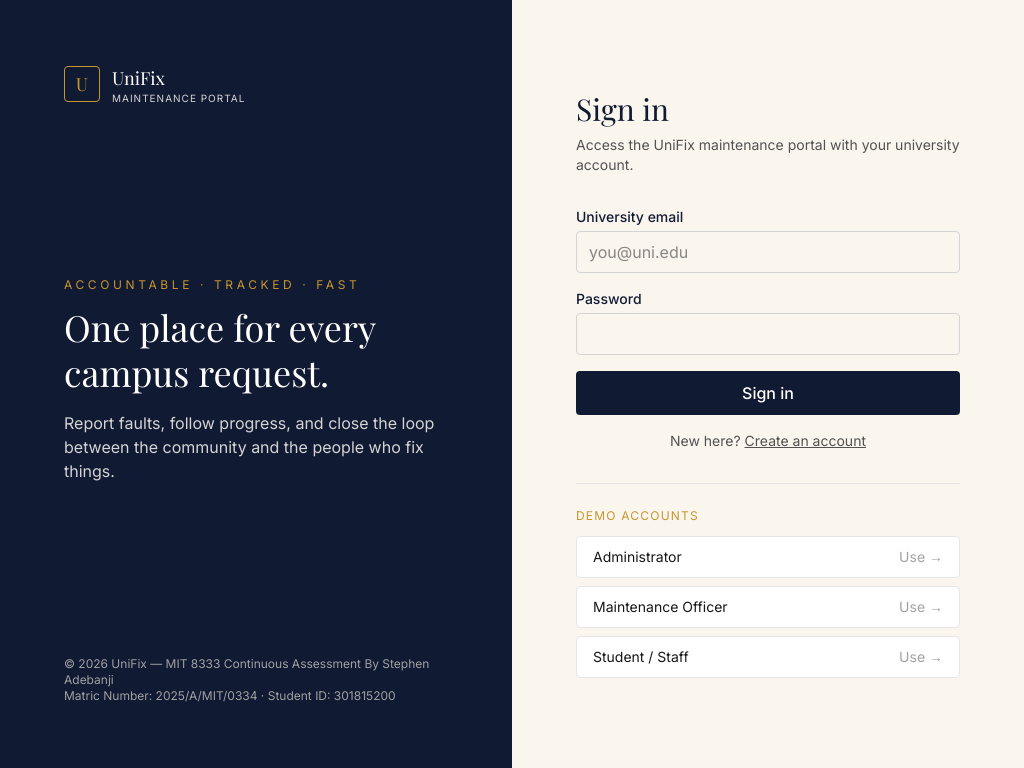
SignInPage › shows an error message when login fails
Type "wrong@uni.edu" into the field with placeholder "you@uni.edu". click: [768, 252]
box: [576,230,960,272]
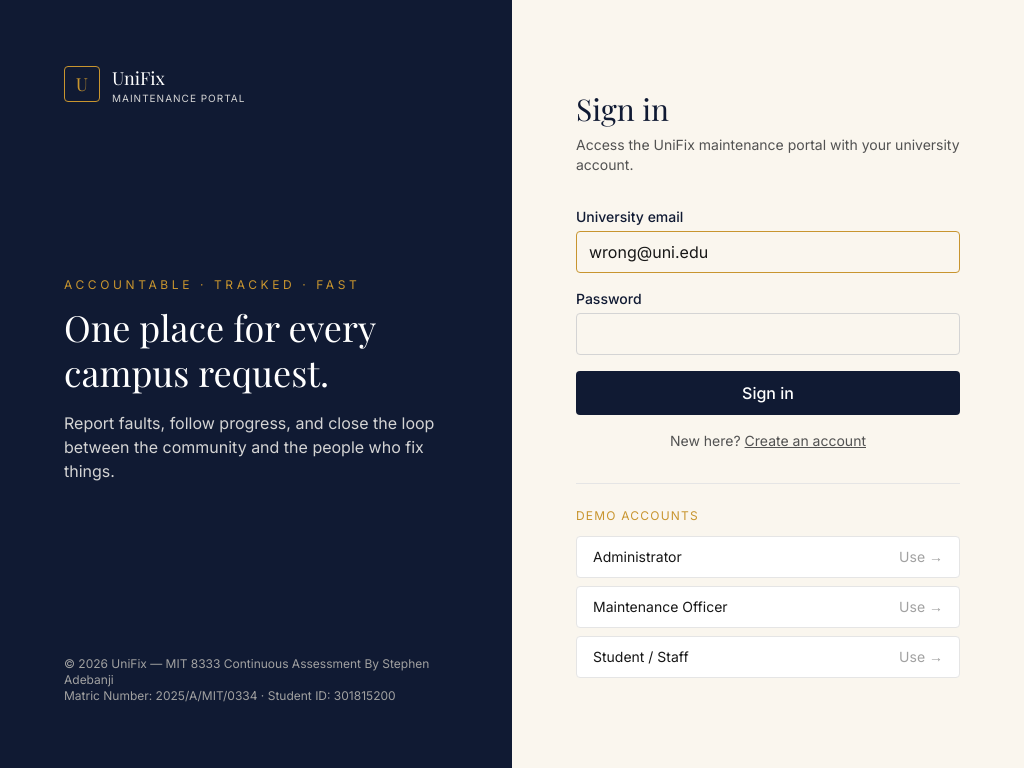
Type "wrong-password" into the password field labelled "Password". click: [768, 334]
box: [576,312,960,354]
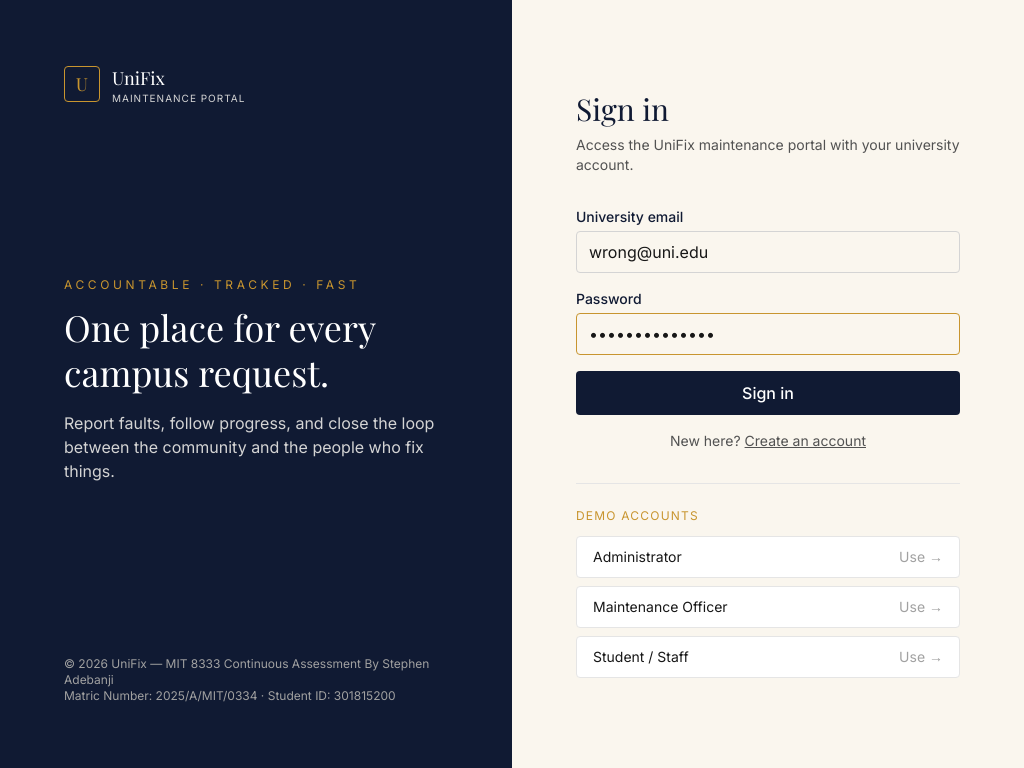
Click the button "Sign in". click: [768, 392]
box: [576,370,960,414]
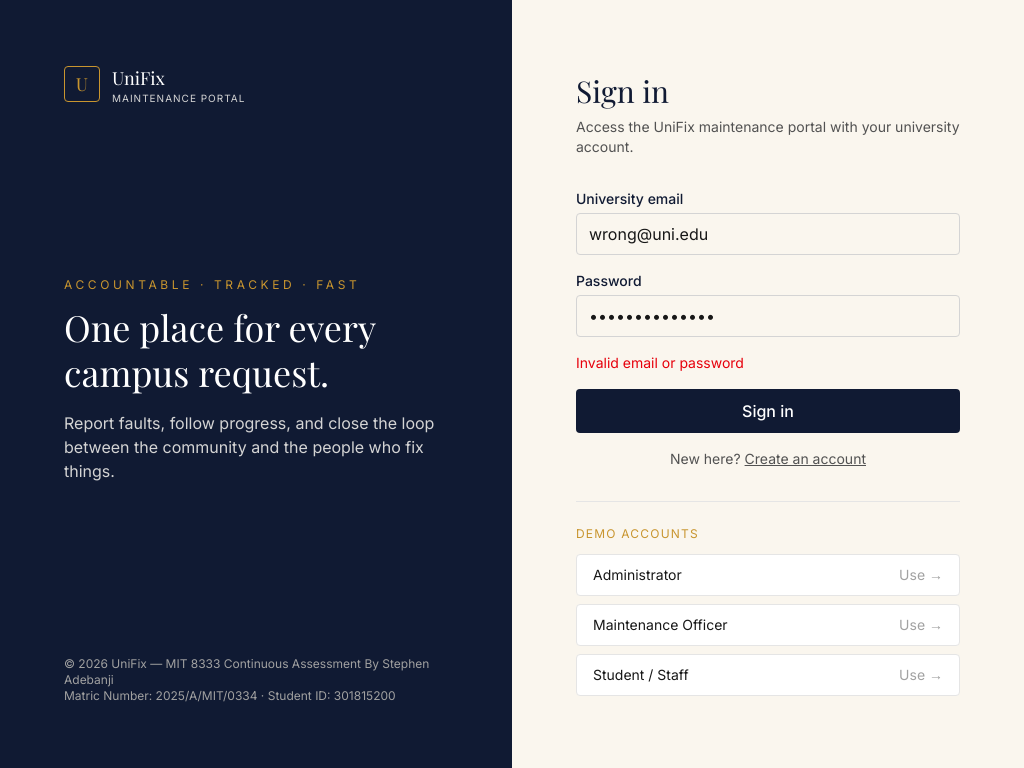
Expected: the text "Invalid email or password" is shown, [576,354,744,370]
